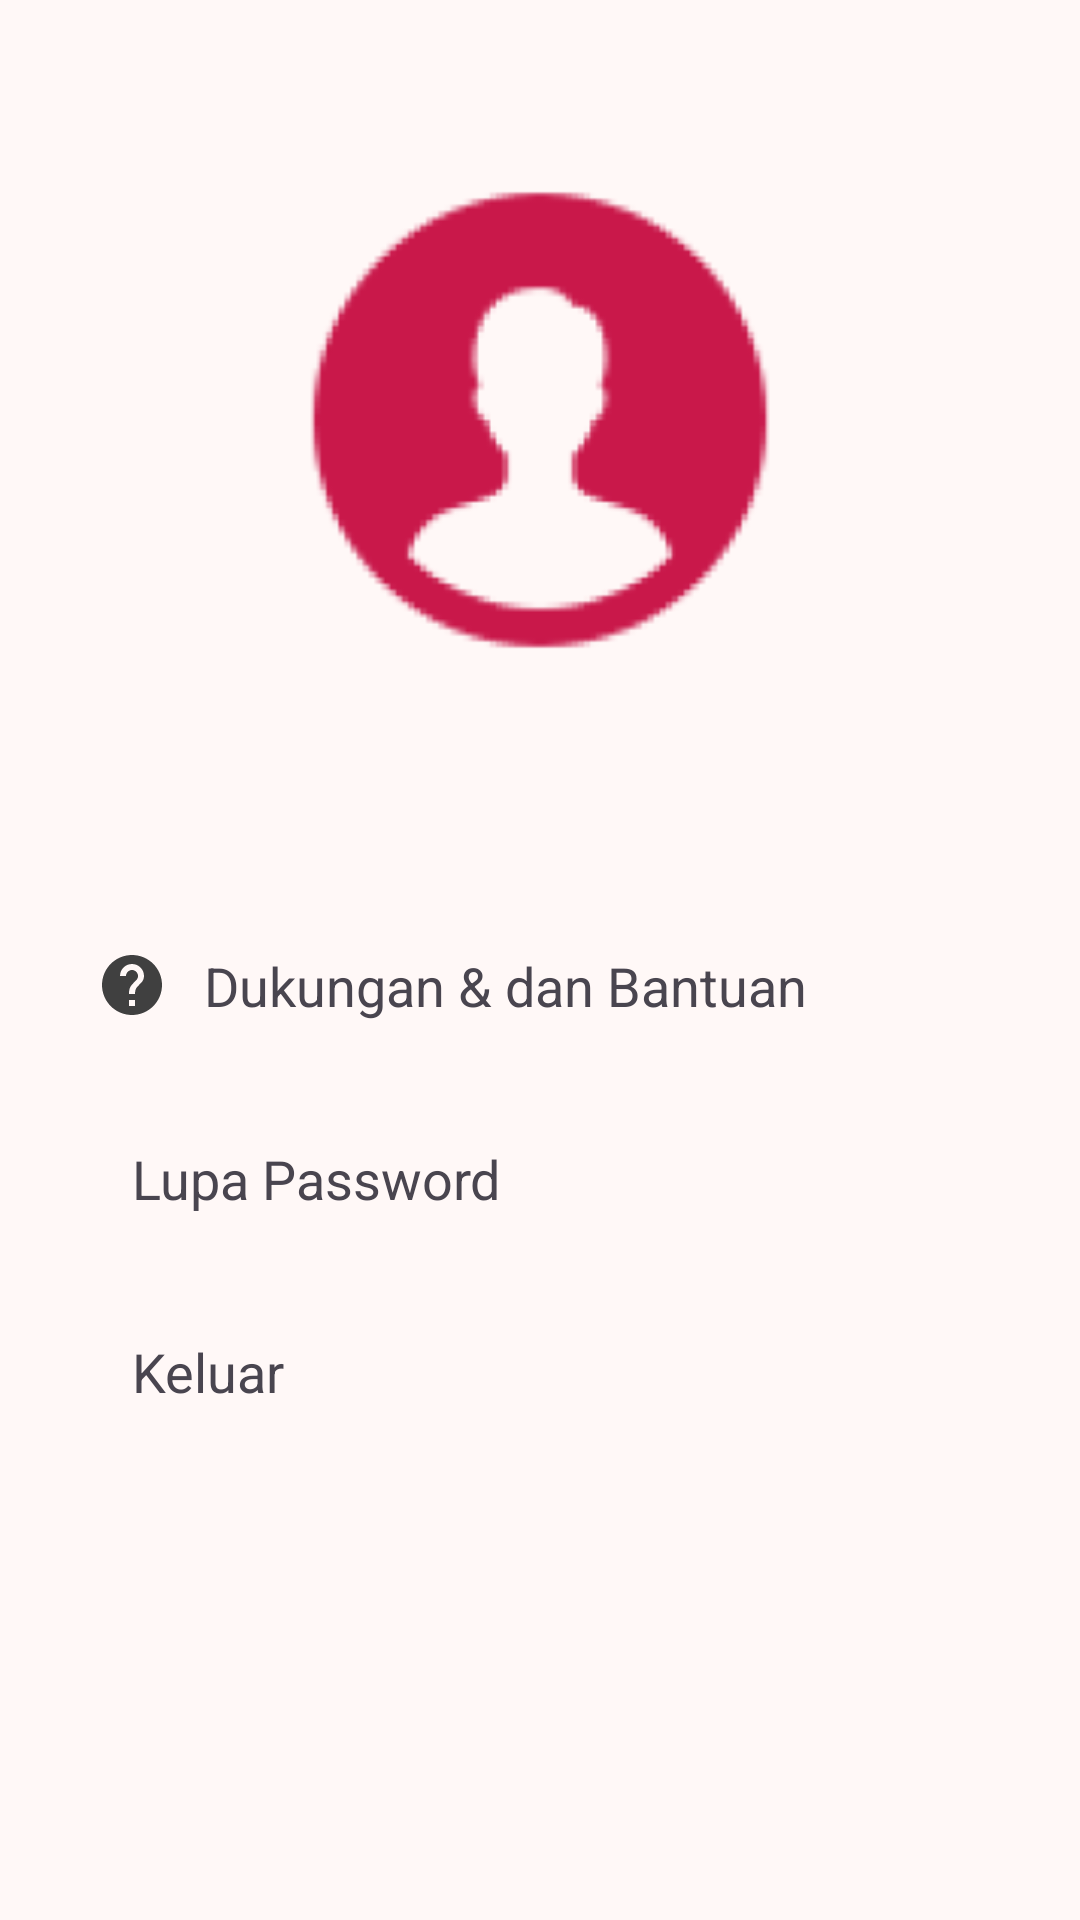

Named icons in this screenshot (1080w x 1920h) and their centers, (x=x, y=y):
help: (x=132, y=985)
